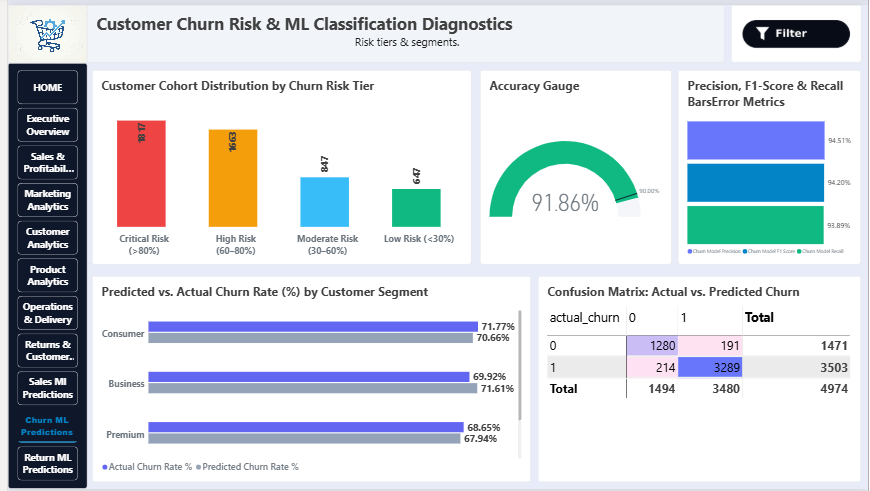

The dashboard page shown, as its layout file describes it:
{"tool":"powerbi","page":{"name":"Churn ML Predictions","canvas":[1920,1080],"ordinal":9},"visuals":[{"type":"pageNavigator","box":[0,129.6,177.1,950.4],"z":0},{"type":"image","box":[0,0,177.1,129.6],"z":1000},{"type":"clusteredColumnChart","title":"Customer Cohort Distribution by Churn Risk Tier","fields":{"Category":["churn_actual_vs_predicted.Churn Risk Tier"],"Y":["churn_actual_vs_predicted.Evaluated Churn Accounts"]},"box":[187.9,144.7,846.7,434.2],"z":2000},{"type":"gauge","title":"Accuracy Gauge","fields":{"Y":["churn_actual_vs_predicted.Churn Model Accuracy"]},"box":[1053.8,145.1,427.7,434.2],"z":3000},{"type":"pivotTable","title":"Confusion Matrix: Actual vs. Predicted Churn","fields":{"Columns":["churn_actual_vs_predicted.predicted_churn"],"Rows":["churn_actual_vs_predicted.actual_churn"],"Values":["churn_actual_vs_predicted.Evaluated Churn Accounts"]},"box":[1183.3,605,721.1,459.9],"z":4000},{"type":"textbox","box":[177.5,0,1422.5,129.1],"z":5000},{"type":"clusteredBarChart","title":" Precision, F1-Score & Recall","fields":{"Y":["churn_actual_vs_predicted.Churn Model Precision","churn_actual_vs_predicted.Churn Model F1 Score","churn_actual_vs_predicted.Churn Model Recall"]},"box":[1496.9,144.7,408.2,434.2],"z":6000},{"type":"clusteredBarChart","title":"Predicted vs. Actual Churn Rate (%) by Customer Segment","fields":{"Category":["customer_master_cleaned.customer_segment"],"Y":["churn_actual_vs_predicted.Predicted Churn Rate %","churn_actual_vs_predicted.Actual Churn Rate %"]},"box":[187.5,605,980.1,459.9],"z":7000},{"type":"image","title":"filter icon","box":[1614.1,0,290.7,128.5],"z":8000}]}

Visuals, with their boxes on the page's 1920x1080 design canvas (x1, y1, x2, y2). These are canvas units, not pixel positions in the 870x491 screenshot, which may show the page scaled, cropped or inside an application window:
pageNavigator: (0, 130, 177, 1080)
image: (0, 0, 177, 130)
"Customer Cohort Distribution by Churn Risk Tier" clusteredColumnChart: (188, 145, 1035, 579)
"Accuracy Gauge" gauge: (1054, 145, 1482, 579)
"Confusion Matrix: Actual vs. Predicted Churn" pivotTable: (1183, 605, 1904, 1065)
textbox: (178, 0, 1600, 129)
" Precision, F1-Score & Recall" clusteredBarChart: (1497, 145, 1905, 579)
"Predicted vs. Actual Churn Rate (%) by Customer Segment" clusteredBarChart: (188, 605, 1168, 1065)
"filter icon" image: (1614, 0, 1905, 128)
